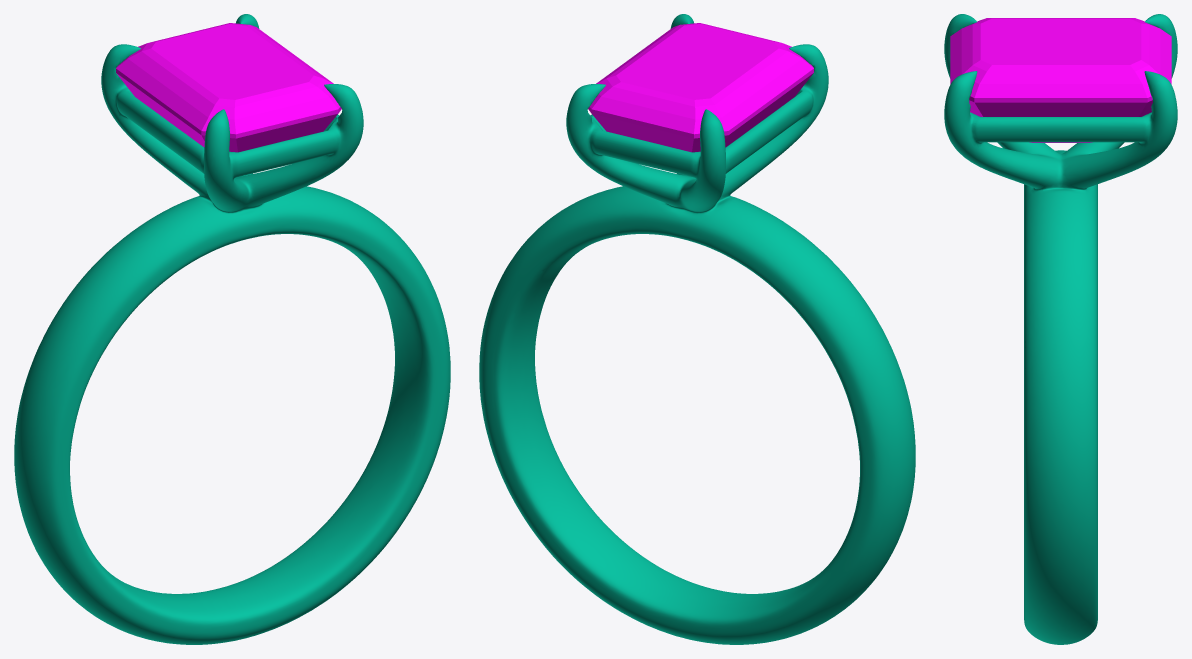
Rendered from BE15698_EM_200ct_RENDER.glb.
3 views of the same model, side by side, from view 1: azimuth 30°, elevation 25°; view 2: azimuth 150°, elevation 25°; view 3: azimuth 270°, elevation 25° (orthographic).
Parts seen in each view (by area): view 1: Metal 01, CS_Diamond_Emerald; view 2: Metal 01, CS_Diamond_Emerald; view 3: Metal 01, CS_Diamond_Emerald.
Boxes of the visible parts, left/top/right/bottom form: Metal 01: left=14, top=14, right=450, bottom=644; CS_Diamond_Emerald: left=116, top=23, right=341, bottom=152; Metal 01: left=479, top=14, right=915, bottom=644; CS_Diamond_Emerald: left=588, top=23, right=813, bottom=152; Metal 01: left=944, top=14, right=1177, bottom=644; CS_Diamond_Emerald: left=950, top=18, right=1171, bottom=142.
Bounding box in the file's own units: 20.09 × 25.99 × 9.48.
